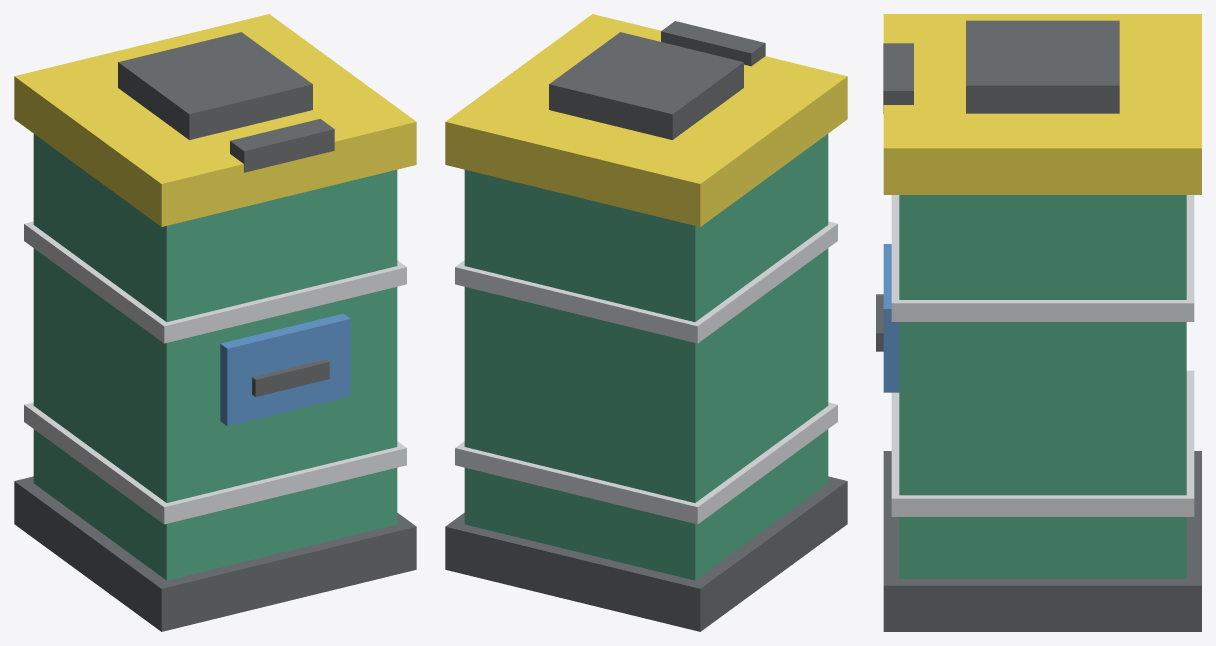
The model's file is recycling-and-waste-transfer-yard-recycling-and-waste--67747b38__34909.glb.
3 renders of one model, left to right at view 1: azimuth 30°, elevation 25°; view 2: azimuth 150°, elevation 25°; view 3: azimuth 270°, elevation 25°, orthographic. The views are drawn at different scales.
Visible parts, largest first — view 1: recycling-and-waste-transfer-yard-public-bin, bin-lid/yellow, bin-lid/charcoal; view 2: recycling-and-waste-transfer-yard-public-bin, bin-lid/yellow, bin-lid/charcoal; view 3: recycling-and-waste-transfer-yard-public-bin, bin-lid/yellow, bin-lid/charcoal.
Part boxes in pixels (box(x1,y1,x2,y2)): recycling-and-waste-transfer-yard-public-bin: box(14, 134, 416, 631); bin-lid/yellow: box(14, 14, 416, 226); bin-lid/charcoal: box(118, 32, 334, 172); recycling-and-waste-transfer-yard-public-bin: box(445, 134, 847, 631); bin-lid/yellow: box(445, 14, 847, 226); bin-lid/charcoal: box(549, 21, 765, 139); recycling-and-waste-transfer-yard-public-bin: box(876, 195, 1201, 631); bin-lid/yellow: box(883, 14, 1201, 194); bin-lid/charcoal: box(883, 20, 1119, 113).
Size of the model in its own units: 0.62 by 1.1 by 0.635.
